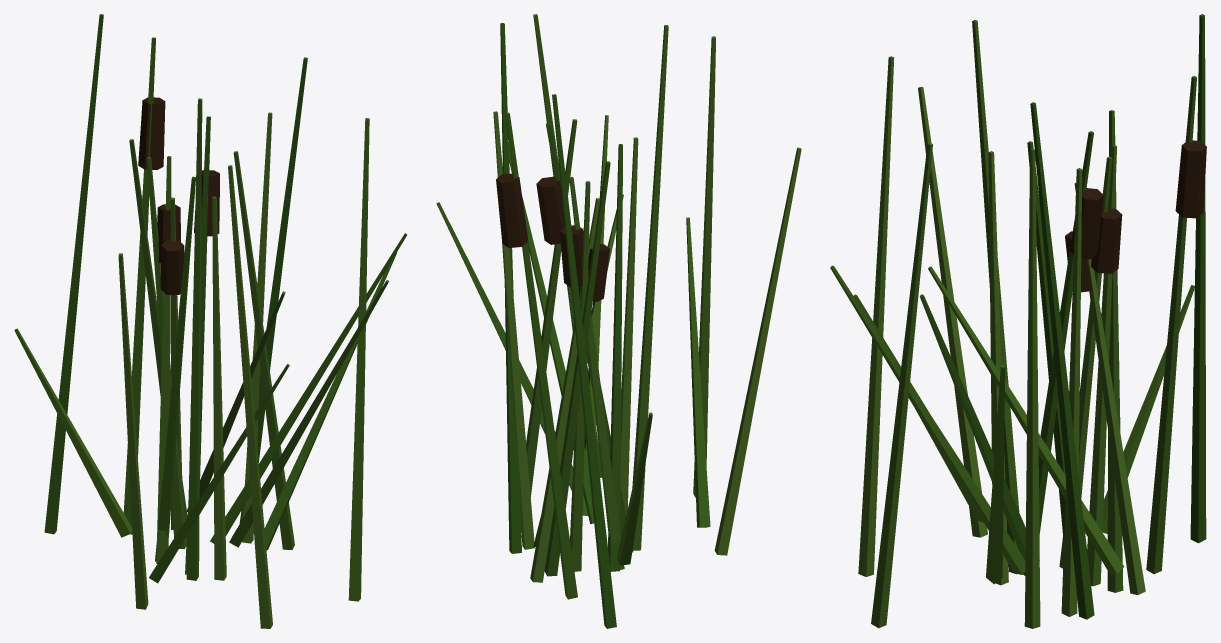
The model's file is ground_reed_2.glb.
3 views of the same model, side by side, from view 1: azimuth 30°, elevation 25°; view 2: azimuth 150°, elevation 25°; view 3: azimuth 270°, elevation 25° (orthographic). The views are drawn at different scales.
Parts seen in each view (by area): view 1: leaf, wood; view 2: leaf, wood; view 3: leaf, wood.
Boxes of the visible parts, bbox=[...] form: leaf: bbox=[14, 14, 407, 628]; wood: bbox=[138, 97, 219, 294]; leaf: bbox=[436, 14, 801, 628]; wood: bbox=[496, 173, 609, 301]; leaf: bbox=[830, 14, 1206, 628]; wood: bbox=[1065, 140, 1206, 292].
Size of the model in its own units: 1.44 by 2.19 by 1.35.
